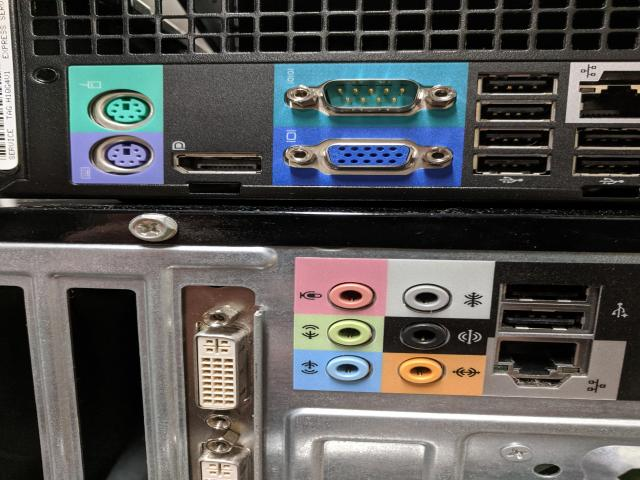CRS: (129, 213, 176, 241), (498, 444, 537, 463)
